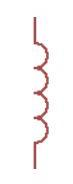inductor: (25, 30, 56, 147)
